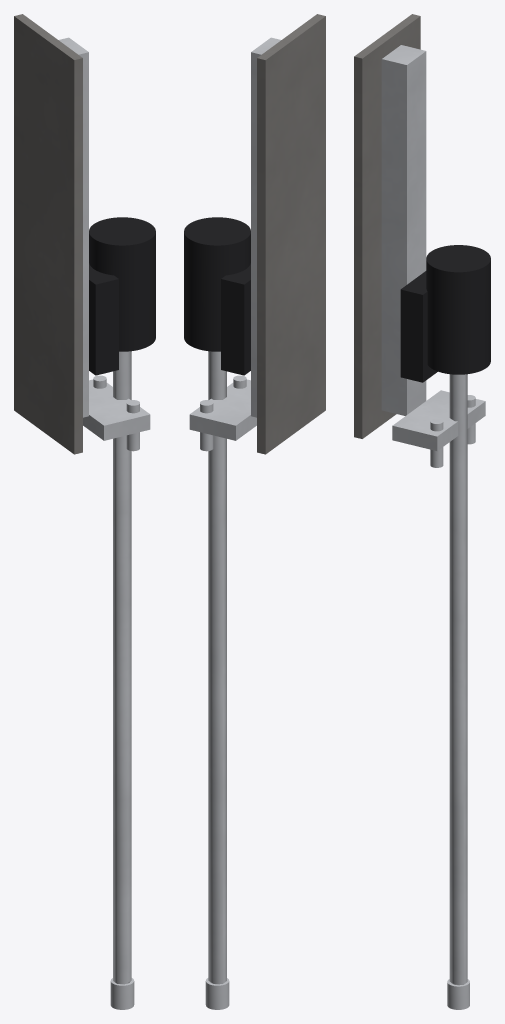
The model's file is rover05_core_drill_deployed.glb.
3 renders of one model, left to right at view 1: azimuth 30°, elevation 25°; view 2: azimuth 150°, elevation 25°; view 3: azimuth 330°, elevation 25°, orthographic. The views are drawn at different scales.
Parts seen in each view (by area): view 1: base_plate, drill_string, carriage_motor, stabilisers, guide_rail; view 2: base_plate, drill_string, carriage_motor, stabilisers, guide_rail; view 3: guide_rail, base_plate, drill_string, carriage_motor, stabilisers.
Part boxes in pixels (left/top/right/bottom): base_plate: left=14, top=14, right=82, bottom=454; drill_string: left=110, top=351, right=134, bottom=1009; carriage_motor: left=89, top=217, right=155, bottom=375; stabilisers: left=83, top=375, right=150, bottom=451; guide_rail: left=59, top=37, right=88, bottom=417; base_plate: left=257, top=14, right=325, bottom=454; drill_string: left=205, top=351, right=229, bottom=1009; carriage_motor: left=184, top=217, right=250, bottom=375; stabilisers: left=189, top=375, right=256, bottom=451; guide_rail: left=251, top=37, right=280, bottom=417; guide_rail: left=381, top=45, right=426, bottom=415; base_plate: left=354, top=14, right=420, bottom=438; drill_string: left=447, top=374, right=469, bottom=1009; carriage_motor: left=400, top=245, right=490, bottom=382; stabilisers: left=392, top=390, right=485, bottom=467.
Size of the model in its own units: 0.37 by 3.25 by 0.36.
Materials: 3 (2 with a texture image).
